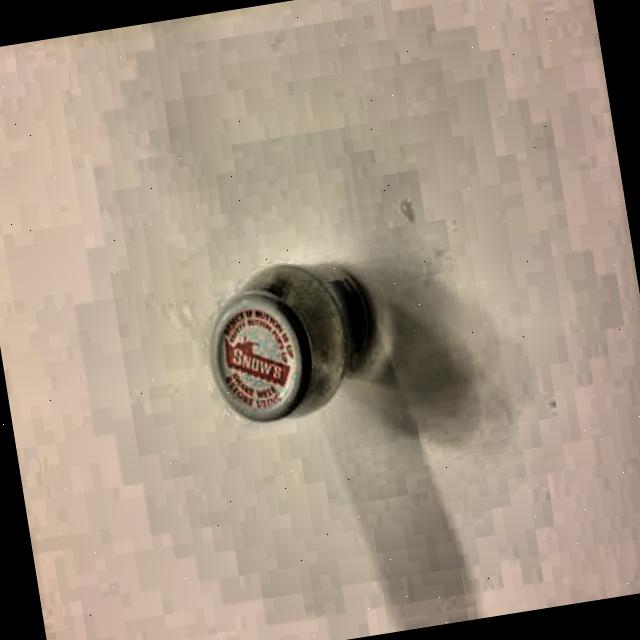glass: (196, 248, 390, 434)
